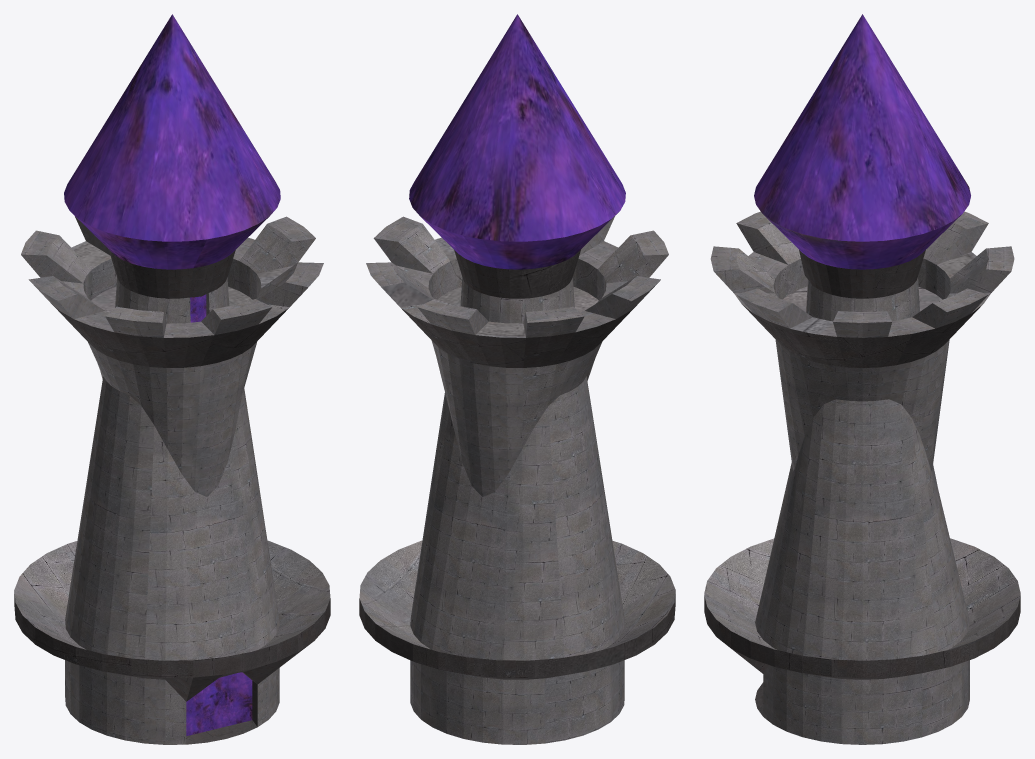
Rendered from MageTower.glb.
3 renders of one model, left to right at view 1: azimuth 30°, elevation 25°; view 2: azimuth 150°, elevation 25°; view 3: azimuth 270°, elevation 25°, orthographic.
Parts seen in each view (by area): view 1: MageTower; view 2: MageTower; view 3: MageTower.
Part boxes in pixels (box(x1,y1,x2,y2)): MageTower: box(14, 14, 330, 744); MageTower: box(359, 14, 675, 744); MageTower: box(704, 14, 1020, 744).
Size of the model in its own units: 14.52 by 34.68 by 14.52.
1 material, 1 textured.
